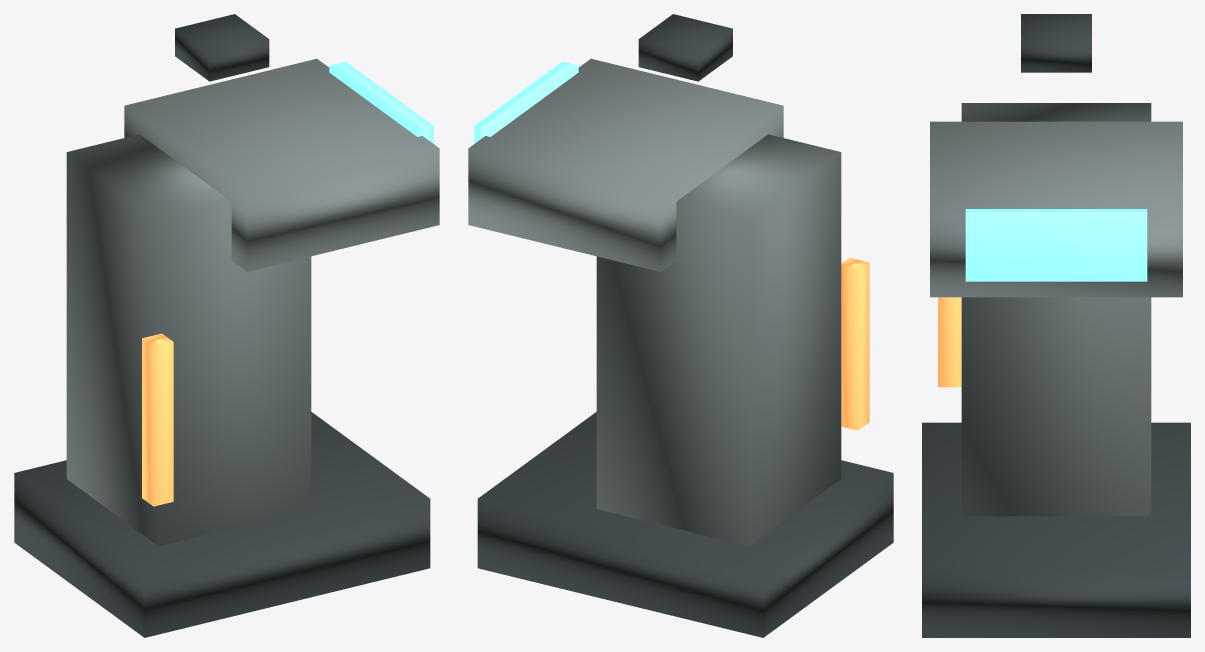
The model's file is spin-habitat-gravity-trim-lod1.glb.
3 views of the same model, side by side, from view 1: azimuth 30°, elevation 25°; view 2: azimuth 150°, elevation 25°; view 3: azimuth 270°, elevation 25° (orthographic). The views are drawn at different scales.
Parts seen in each view (by area): view 1: spin-habitat-gravity-trim-column, spin-habitat-gravity-trim-base, spin-habitat-gravity-trim-yoke, spin-habitat-gravity-trim-index, objective-beacon-mount, spin-habitat-interactable-status; view 2: spin-habitat-gravity-trim-column, spin-habitat-gravity-trim-base, spin-habitat-gravity-trim-yoke, spin-habitat-gravity-trim-index, objective-beacon-mount, spin-habitat-interactable-status; view 3: spin-habitat-gravity-trim-column, spin-habitat-gravity-trim-base, spin-habitat-gravity-trim-yoke, spin-habitat-interactable-status, objective-beacon-mount, spin-habitat-gravity-trim-index.
Boxes of the visible parts, box(x1,y1,x2,y2) form: spin-habitat-gravity-trim-column: box(66, 134, 311, 546); spin-habitat-gravity-trim-base: box(14, 412, 430, 637); spin-habitat-gravity-trim-yoke: box(124, 58, 439, 271); spin-habitat-gravity-trim-index: box(142, 333, 173, 506); objective-beacon-mount: box(175, 14, 269, 81); spin-habitat-interactable-status: box(329, 61, 433, 143); spin-habitat-gravity-trim-column: box(596, 134, 841, 546); spin-habitat-gravity-trim-base: box(477, 412, 893, 637); spin-habitat-gravity-trim-yoke: box(468, 58, 783, 271); spin-habitat-gravity-trim-index: box(841, 257, 869, 430); objective-beacon-mount: box(638, 14, 732, 81); spin-habitat-interactable-status: box(474, 61, 578, 143); spin-habitat-gravity-trim-column: box(961, 103, 1151, 516); spin-habitat-gravity-trim-base: box(922, 422, 1190, 637); spin-habitat-gravity-trim-yoke: box(930, 121, 1182, 297); spin-habitat-interactable-status: box(965, 209, 1147, 281); objective-beacon-mount: box(1021, 14, 1091, 72); spin-habitat-gravity-trim-index: box(938, 297, 961, 387).
Size of the model in its own units: 0.935 by 1.5 by 0.68.
